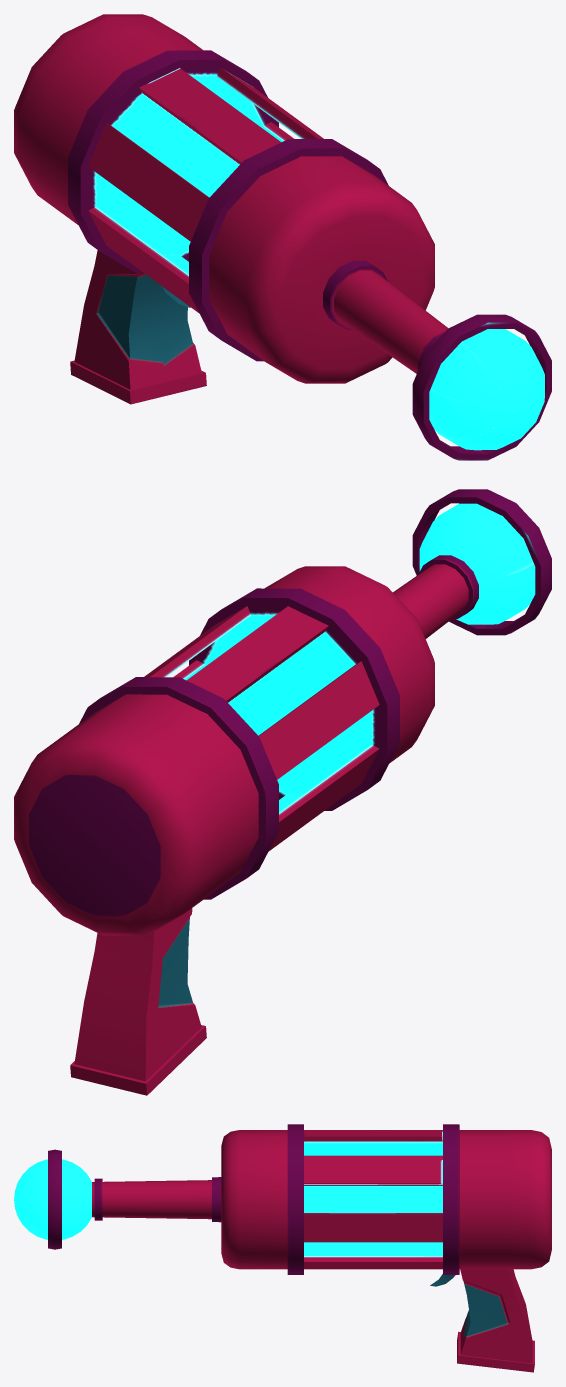
Rendered from cosmicgun.fbx.
3 renders of one model, top to bottom at view 1: azimuth 30°, elevation 25°; view 2: azimuth 150°, elevation 25°; view 3: azimuth 270°, elevation 25°, orthographic. The views are drawn at different scales.
Visible parts, largest first — view 1: Sphere; view 2: Sphere; view 3: Sphere.
Part boxes in pixels (x1=…): Sphere: x1=14, y1=14, x2=551, y2=460; Sphere: x1=14, y1=489, x2=551, y2=1095; Sphere: x1=14, y1=1124, x2=551, y2=1372.
Bounding box in the file's own units: 26.25 × 45.25 × 96.26.
Materials: 1 (1 with a texture image).
